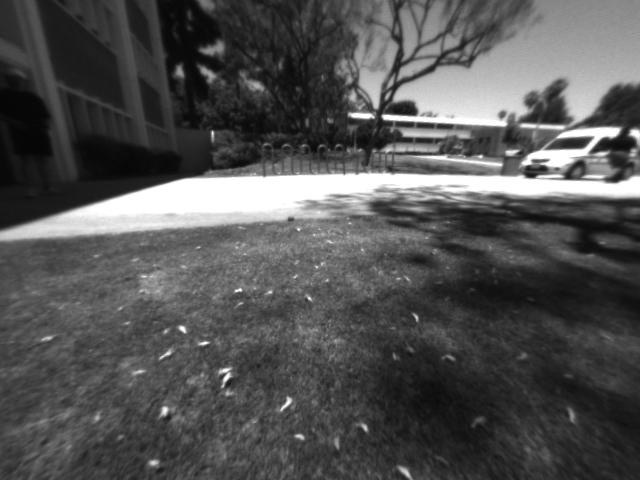dogtoy: (279, 207, 304, 229)
